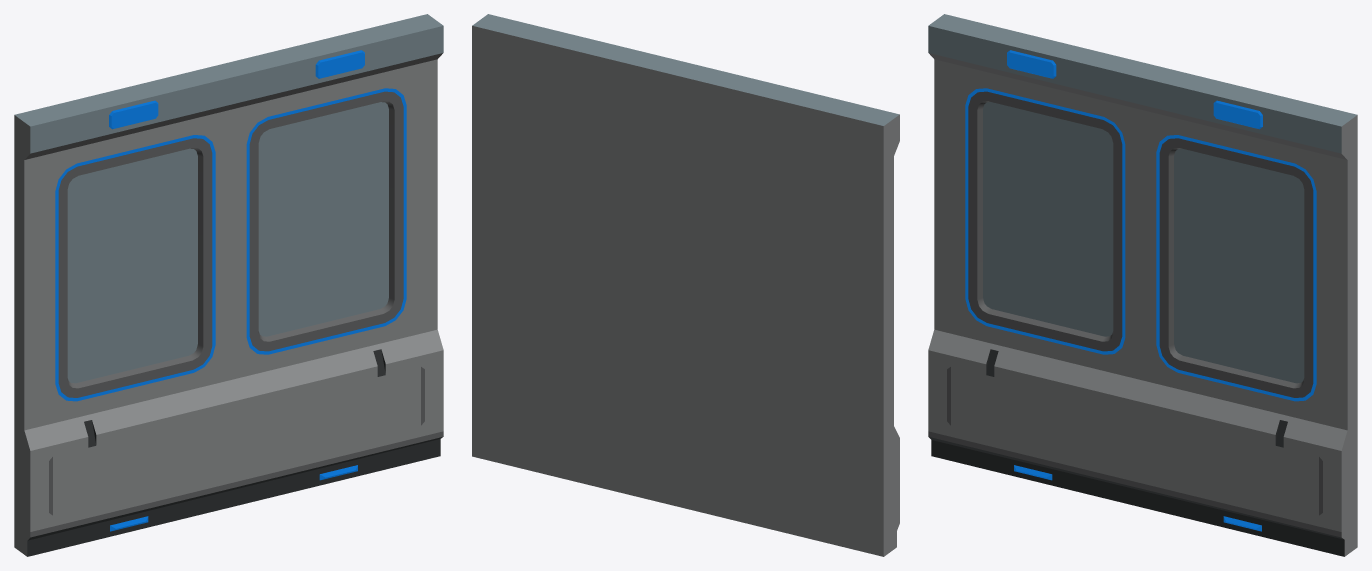
Rendered from Wall_type_B_016.glb.
3 views of the same model, side by side, from view 1: azimuth 30°, elevation 25°; view 2: azimuth 150°, elevation 25°; view 3: azimuth 330°, elevation 25° (orthographic).
Visible parts, largest first — view 1: Wall_type_B_016; view 2: Wall_type_B_016; view 3: Wall_type_B_016.
Boxes of the visible parts, x1,y1,x2,y2 form: Wall_type_B_016: (14, 14, 443, 556); Wall_type_B_016: (472, 14, 899, 556); Wall_type_B_016: (928, 14, 1357, 556).
Size of the model in its own units: 4 by 4 by 0.2898.
2 materials, 2 textured.
